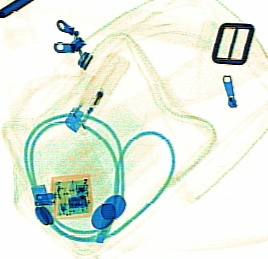lighter: (63, 52, 128, 133)
